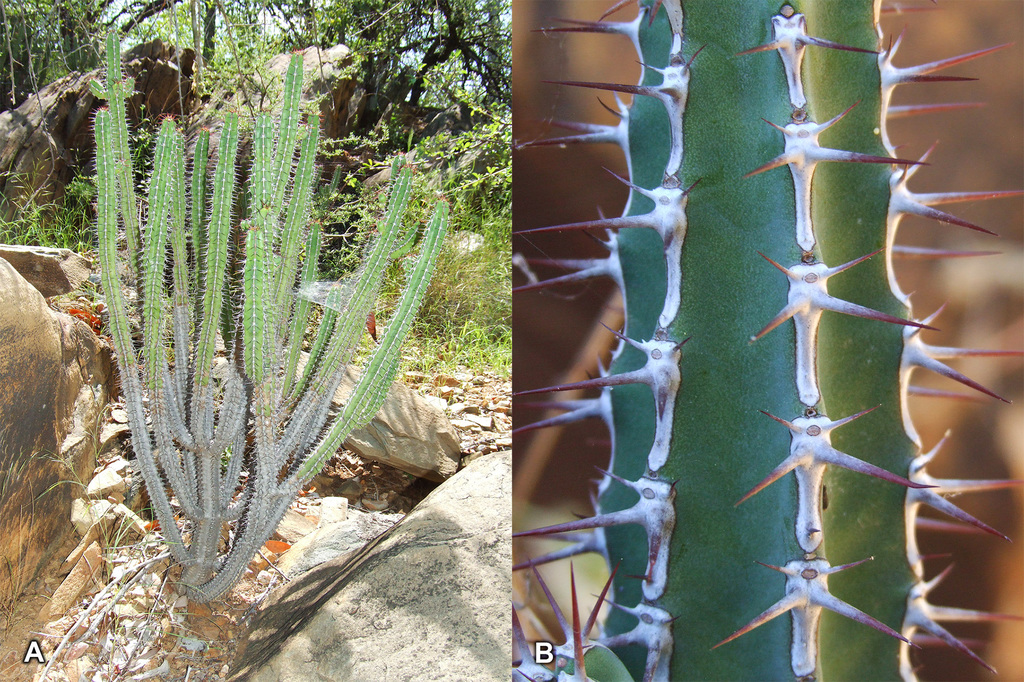Tree: (0, 0, 511, 140)
